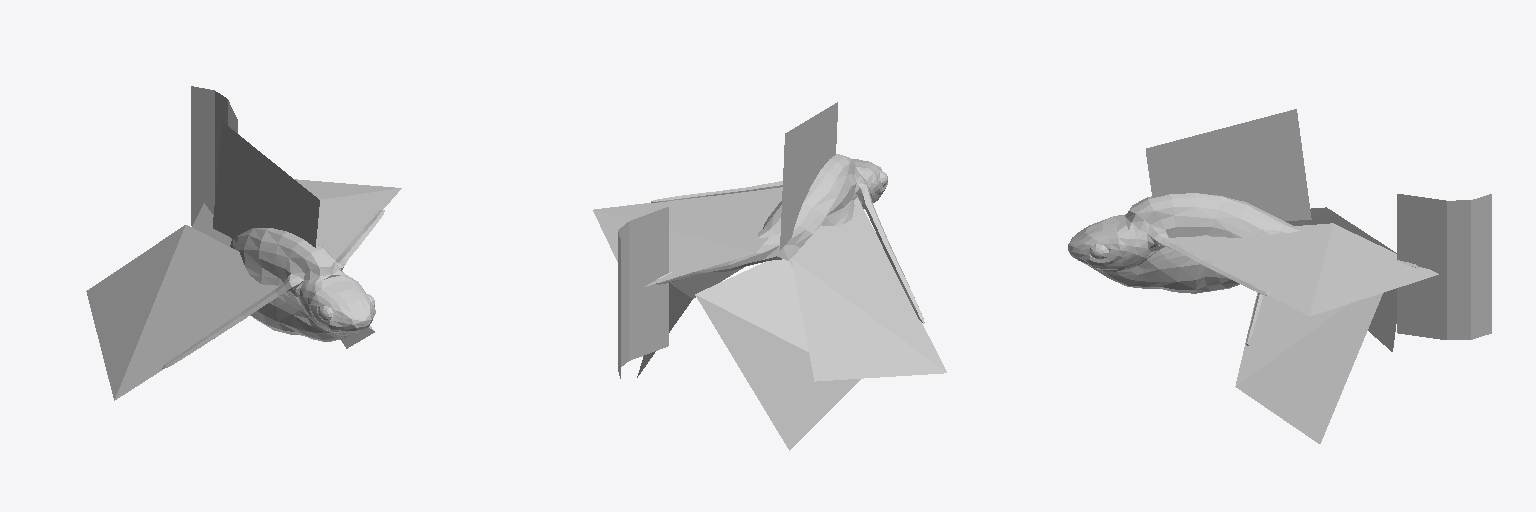
The model's file is fish_000032.obj.
3 views of the same model, side by side, from view 1: azimuth 30°, elevation 25°; view 2: azimuth 150°, elevation 25°; view 3: azimuth 270°, elevation 25° (orthographic).
Visible parts, largest first — view 1: flyingFish_low_StingrayPBS1_0; view 2: flyingFish_low_StingrayPBS1_0; view 3: flyingFish_low_StingrayPBS1_0.
Part boxes in pixels (left/top/right/bottom): flyingFish_low_StingrayPBS1_0: left=86, top=86, right=401, bottom=400; flyingFish_low_StingrayPBS1_0: left=593, top=102, right=946, bottom=450; flyingFish_low_StingrayPBS1_0: left=1068, top=109, right=1491, bottom=443.
Bounding box in the file's own units: 17.16 × 13.75 × 19.6.